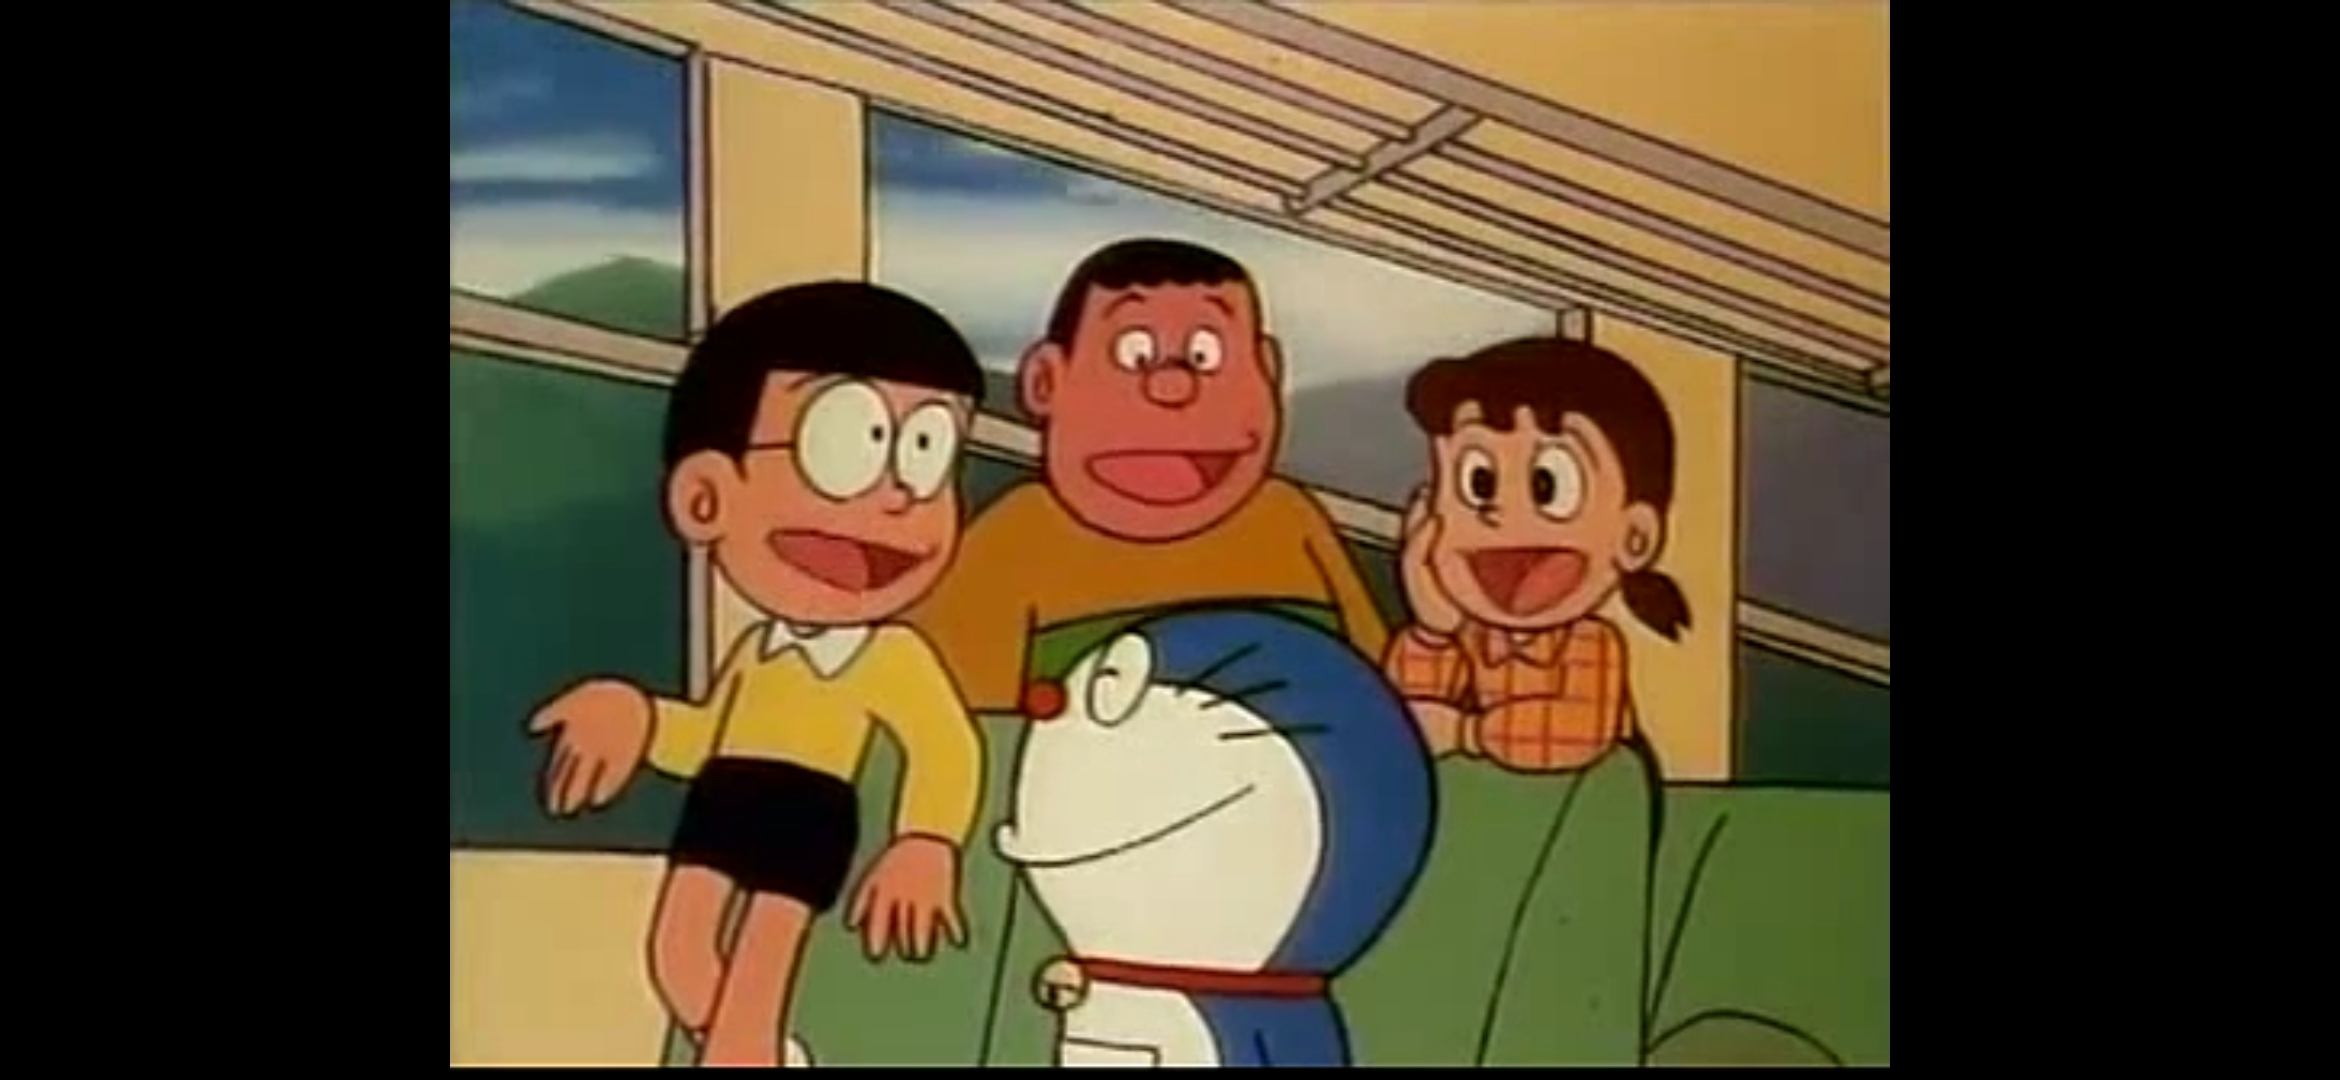Doraemon: (989, 604, 1434, 1008)
Nobi: (663, 279, 980, 622)
Shizuka: (1403, 339, 1674, 625)
Takeshi: (1019, 236, 1280, 541)
